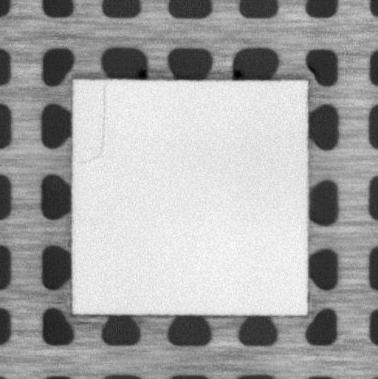DIE_CRACK: (83, 83, 113, 166)
